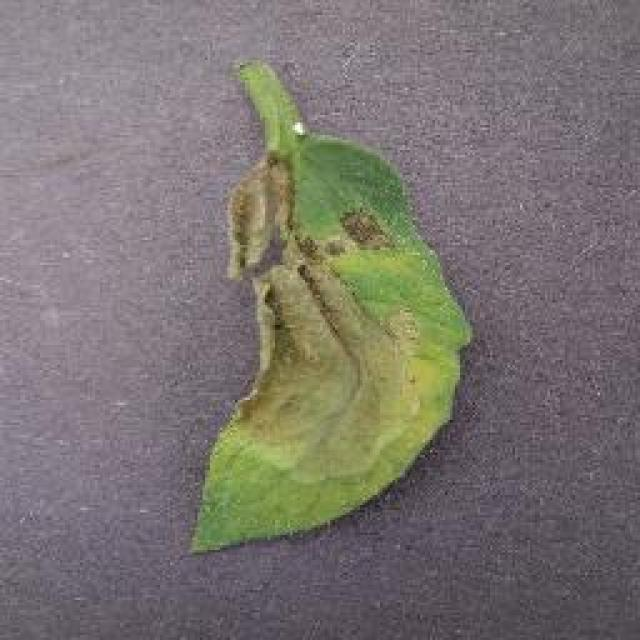Tomato Late Blight: (208, 182, 398, 446)
